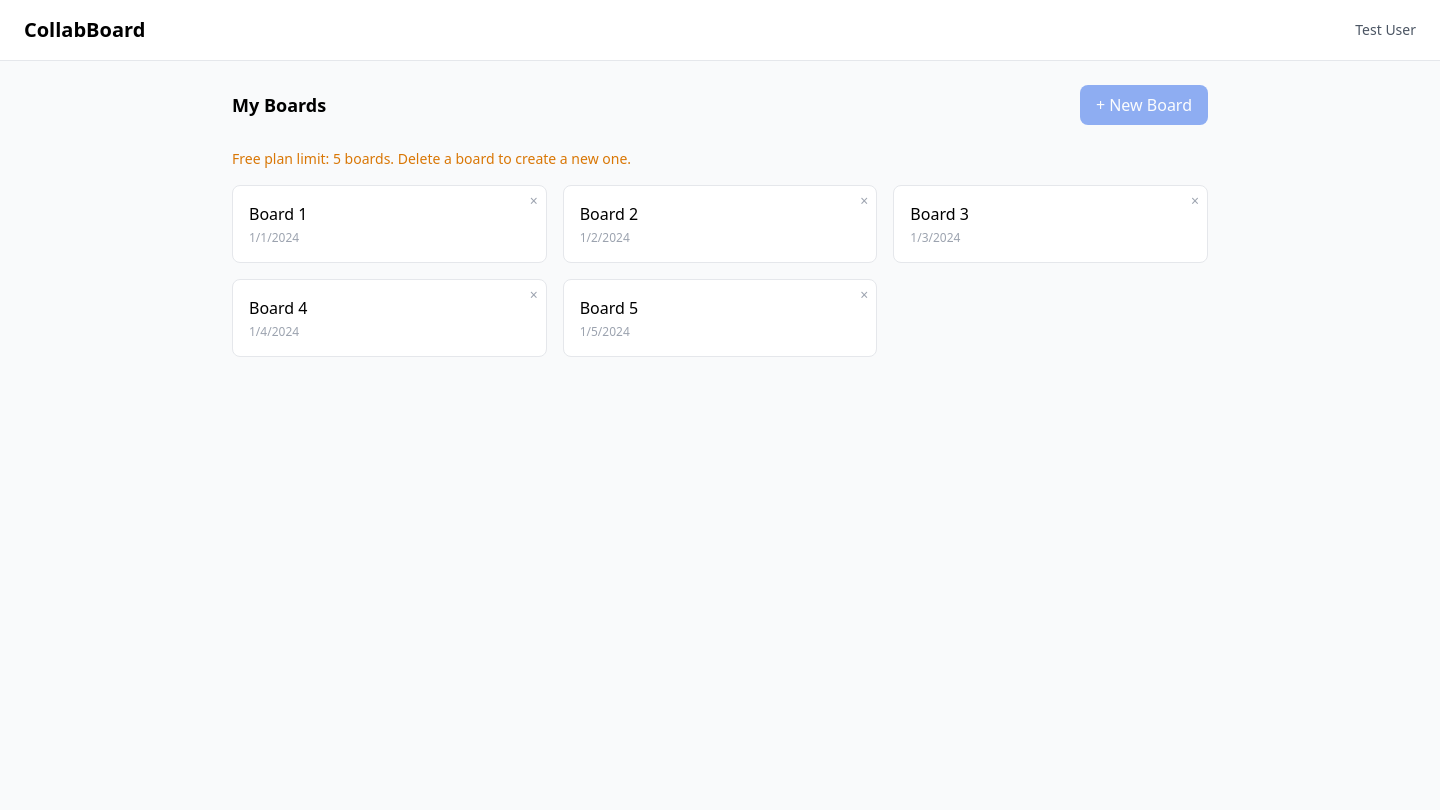
Dashboard — board limit edge cases › re-enables the create button after deleting a board drops count from 5 to 4
Check: the heading "Board 1" is shown, box [249,203,308,225]
Check: the button "+ New Board" is disabled, box [1080,85,1208,125]
Click the button named "delete board" at (534, 201), box [530,194,538,208]
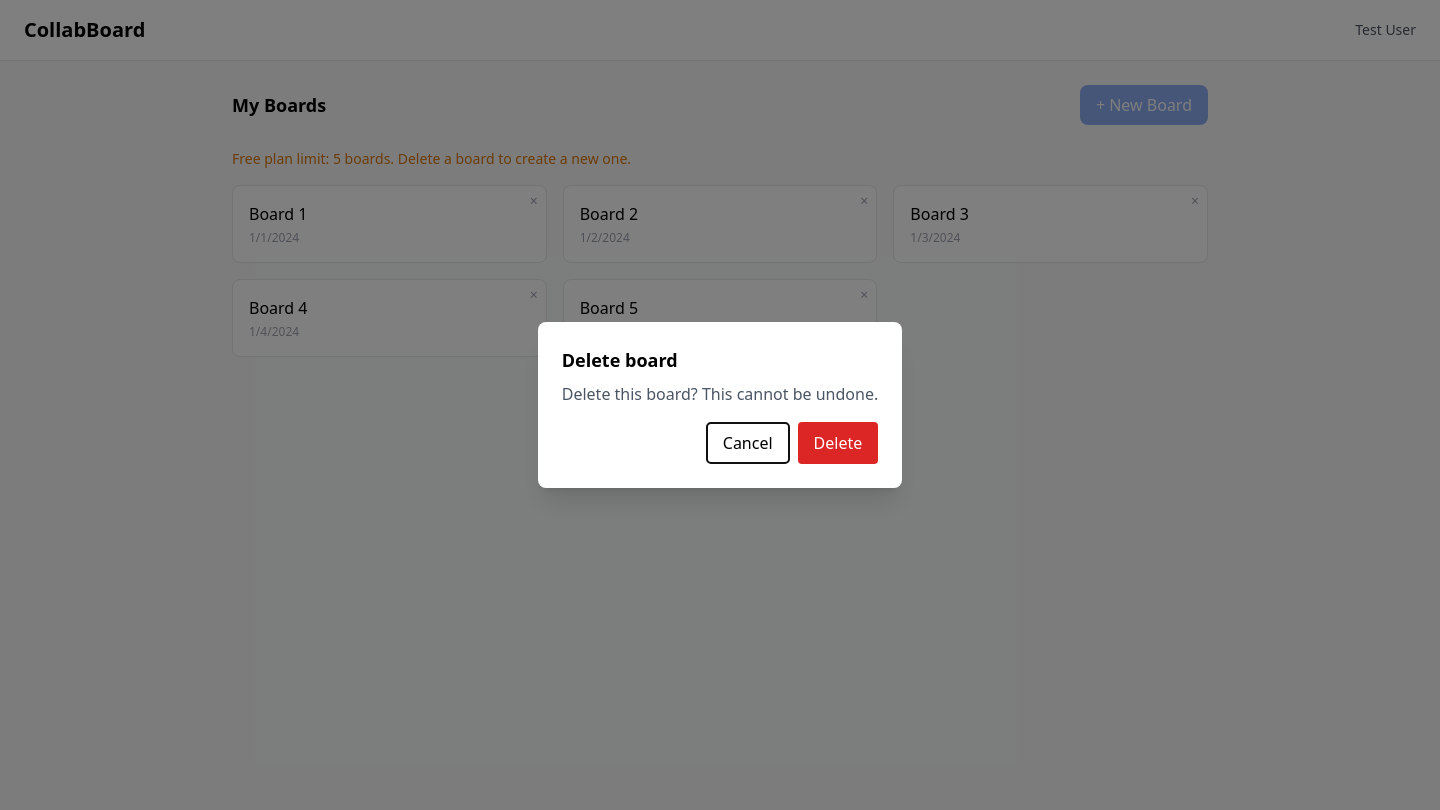
Note: Confirm deletion via dialog
Click the button "Delete" at (838, 443), box [798,422,878,464]
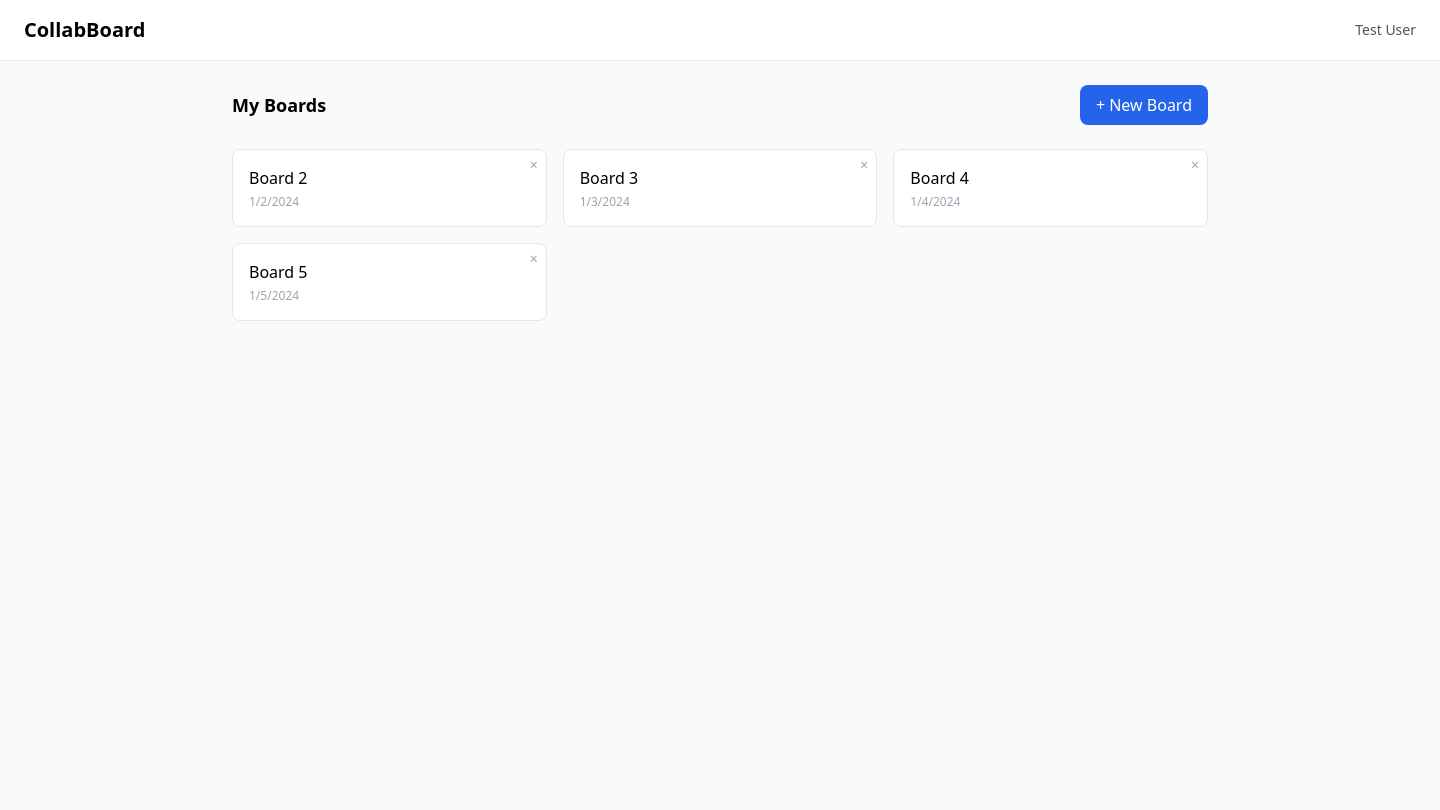
Check: the button "+ New Board" is enabled, box [1080,85,1208,125]
